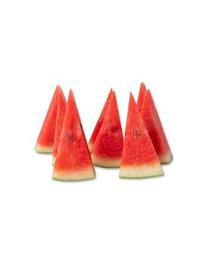watermelon: (37, 82, 174, 178)
